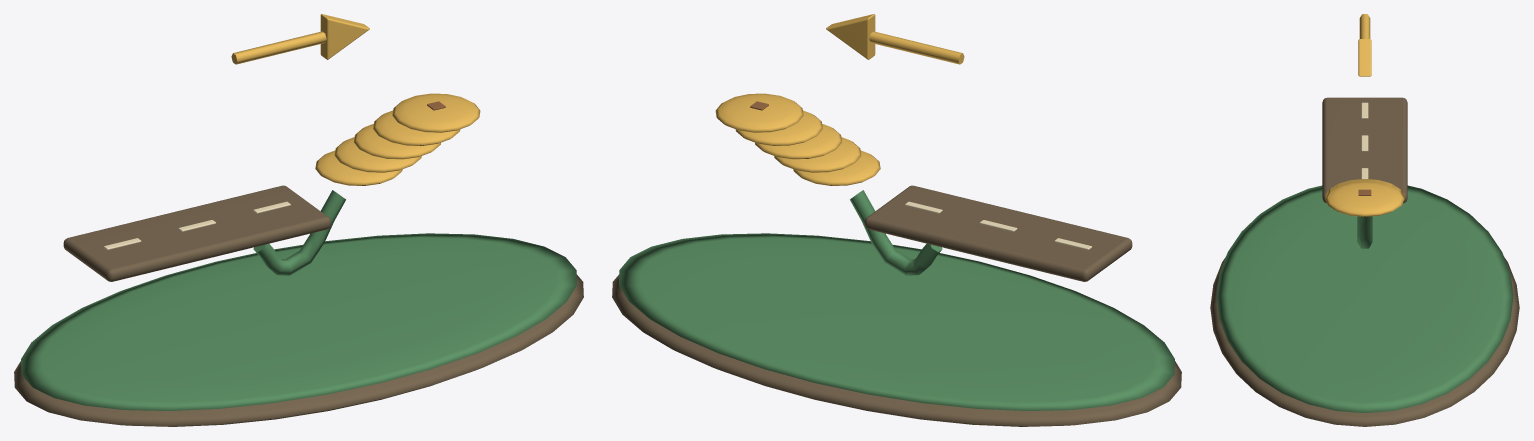
Rendered from complete-second-smooth-profit.glb.
3 views of the same model, side by side, from view 1: azimuth 30°, elevation 25°; view 2: azimuth 150°, elevation 25°; view 3: azimuth 270°, elevation 25° (orthographic). The views are drawn at different scales.
Visible parts, largest first — view 1: complete-second-smooth-profit_surface_01, complete-second-smooth-profit_surface_00, complete-second-smooth-profit_surface_03, complete-second-smooth-profit_surface_02; view 2: complete-second-smooth-profit_surface_01, complete-second-smooth-profit_surface_00, complete-second-smooth-profit_surface_03, complete-second-smooth-profit_surface_02; view 3: complete-second-smooth-profit_surface_01, complete-second-smooth-profit_surface_00, complete-second-smooth-profit_surface_03, complete-second-smooth-profit_surface_02.
Boxes of the visible parts, left/top/right/bottom form: complete-second-smooth-profit_surface_01: left=21, top=190, right=576, bottom=410; complete-second-smooth-profit_surface_00: left=14, top=185, right=583, bottom=426; complete-second-smooth-profit_surface_03: left=231, top=14, right=480, bottom=185; complete-second-smooth-profit_surface_02: left=104, top=201, right=290, bottom=250; complete-second-smooth-profit_surface_01: left=619, top=190, right=1174, bottom=410; complete-second-smooth-profit_surface_00: left=612, top=185, right=1181, bottom=426; complete-second-smooth-profit_surface_03: left=715, top=14, right=964, bottom=185; complete-second-smooth-profit_surface_02: left=905, top=201, right=1091, bottom=250; complete-second-smooth-profit_surface_01: left=1216, top=185, right=1513, bottom=412; complete-second-smooth-profit_surface_00: left=1210, top=97, right=1519, bottom=426; complete-second-smooth-profit_surface_03: left=1325, top=14, right=1404, bottom=216; complete-second-smooth-profit_surface_02: left=1361, top=102, right=1368, bottom=178.
Bounding box in the file's own units: 4.56 × 2.63 × 2.5.
